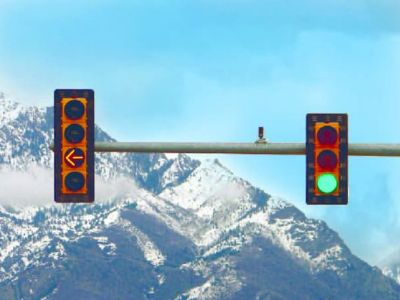trafficlight_green: (313, 122, 341, 198)
